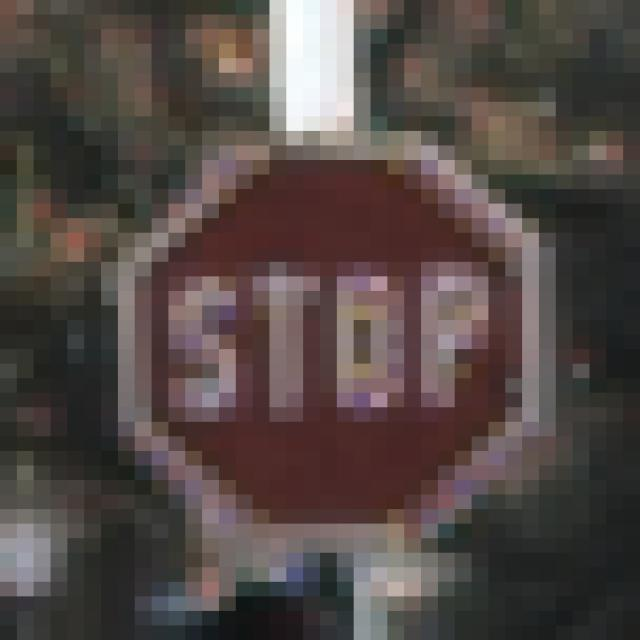STOP: (85, 88, 540, 554)
